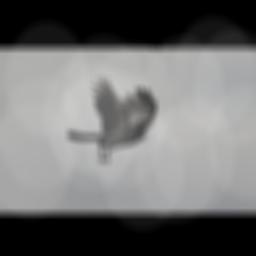Crow: (59, 74, 166, 170)
